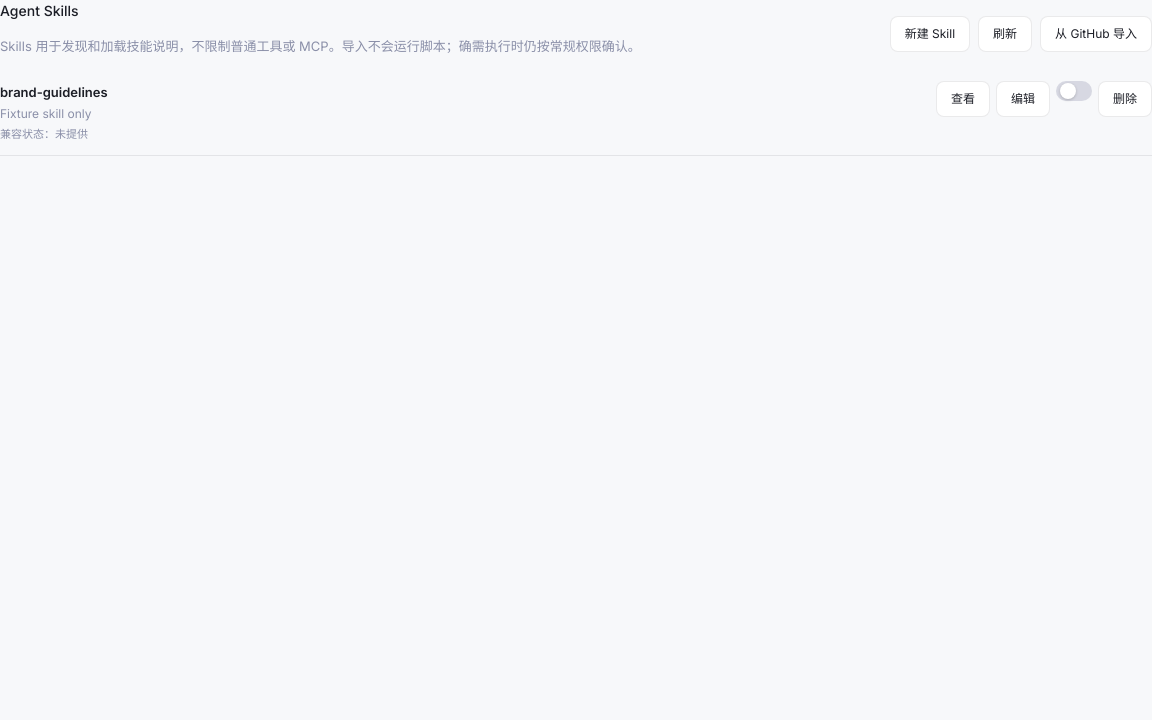
Test: SkillsManager › keeps the skill listed and the confirmation open when DELETE fails
Check: the text "Fixture skill only" is shown, box [0,105,108,123]
Click the button with aria-label "删除技能: brand-guidelines" at (1125,98), box [1098,80,1151,116]
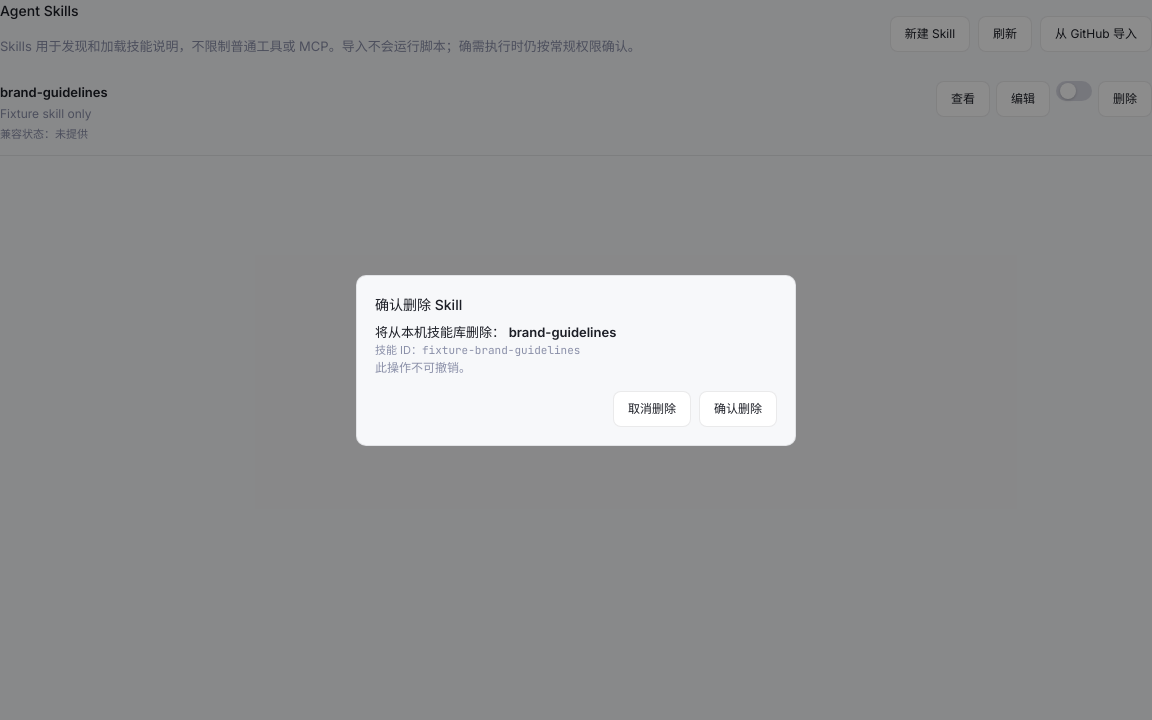
Click the button "确认删除" at (738,408), box [699,390,777,426]
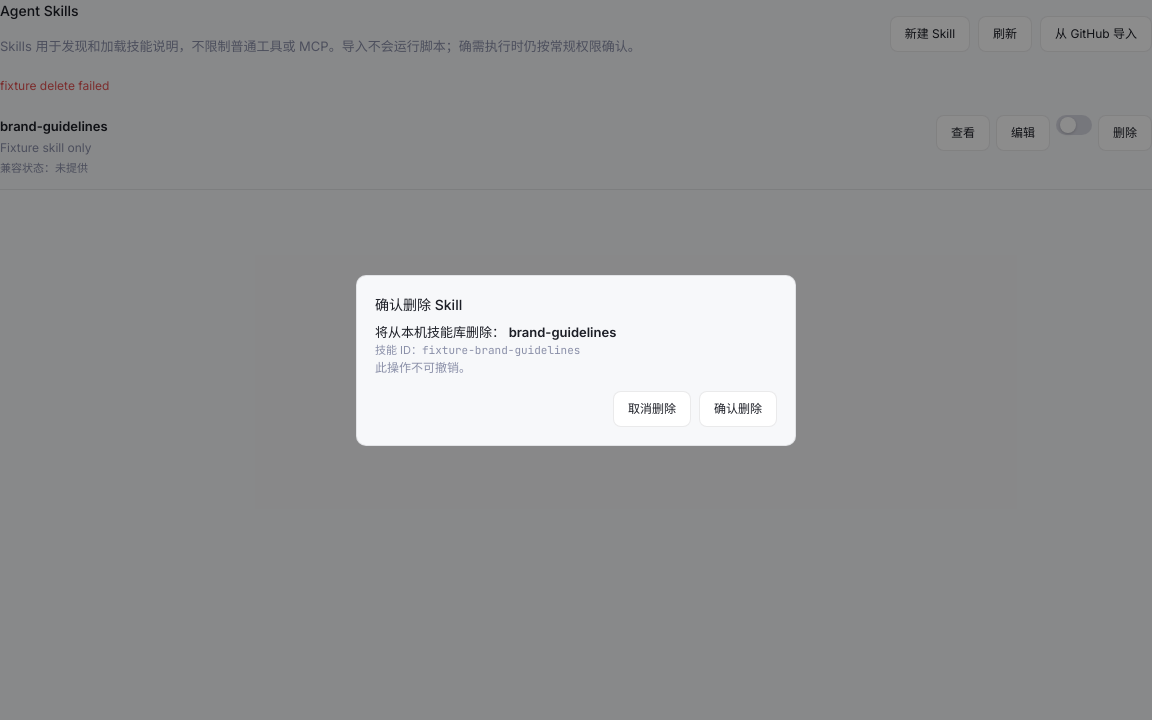
Check: the button with aria-label "删除技能: brand-guidelines" is shown, box [1098,114,1151,150]
Check: the dialog shows "fixture-brand-guidelines", box [422,343,580,357]
Check: the text "fixture delete failed" is shown, box [0,78,109,92]
